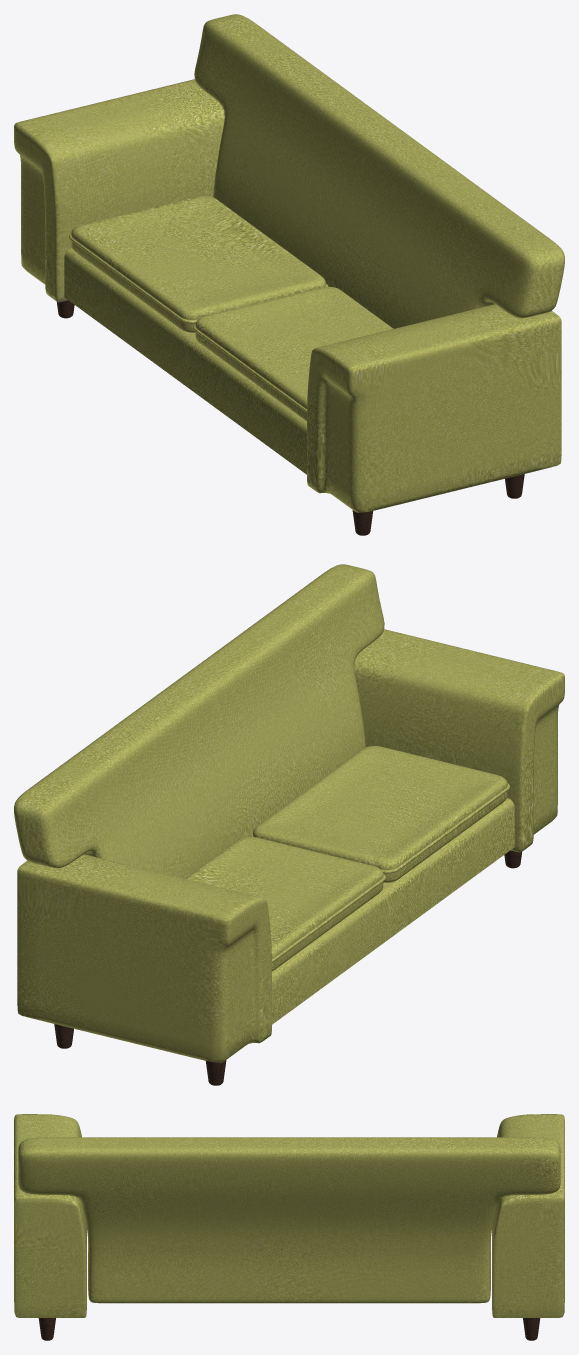
Rendered from LivingRoomSofa.fbx.
3 renders of one model, top to bottom at view 1: azimuth 30°, elevation 25°; view 2: azimuth 150°, elevation 25°; view 3: azimuth 270°, elevation 25°, orthographic. The views are drawn at different scales.
Visible parts, largest first — view 1: LivingRoomSofa, LinvingRooMSofaLegs; view 2: LivingRoomSofa, LinvingRooMSofaLegs; view 3: LivingRoomSofa, LinvingRooMSofaLegs.
Boxes of the visible parts, x1=… form: LivingRoomSofa: x1=14, y1=14, x2=564, y2=512; LinvingRooMSofaLegs: x1=56, y1=300, x2=524, y2=535; LivingRoomSofa: x1=14, y1=564, x2=564, y2=1062; LinvingRooMSofaLegs: x1=54, y1=850, x2=522, y2=1085; LivingRoomSofa: x1=14, y1=1114, x2=564, y2=1317; LinvingRooMSofaLegs: x1=38, y1=1318, x2=540, y2=1340.
Size of the model in its own units: 312 by 333 by 817.
Materials: 2 (2 with a texture image).
